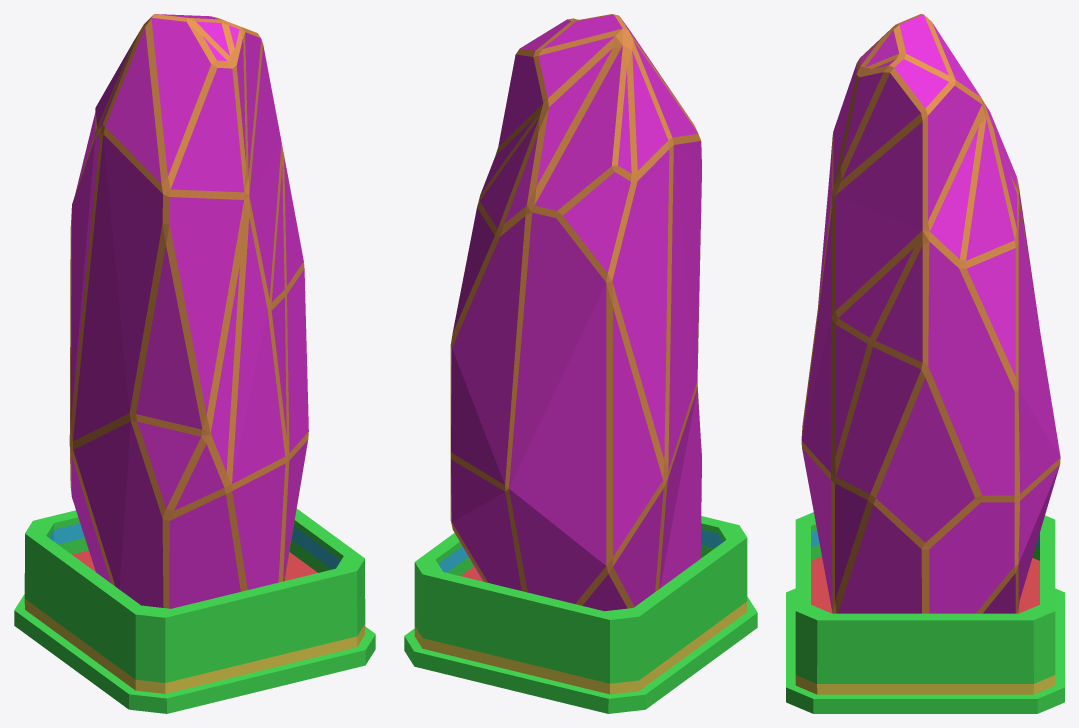
File: Statue_Rock_02.fbx
3 renders of one model, left to right at view 1: azimuth 30°, elevation 25°; view 2: azimuth 150°, elevation 25°; view 3: azimuth 270°, elevation 25°, orthographic. The views are drawn at different scales.
Parts seen in each view (by area): view 1: Statue_Rock_02; view 2: Statue_Rock_02; view 3: Statue_Rock_02.
Part boxes in pixels (<box>): Statue_Rock_02: <box>14,14,375,713</box>; Statue_Rock_02: <box>404,14,757,713</box>; Statue_Rock_02: <box>786,14,1064,713</box>.
Bounding box in the file's own units: 91.38 × 224 × 91.38.
